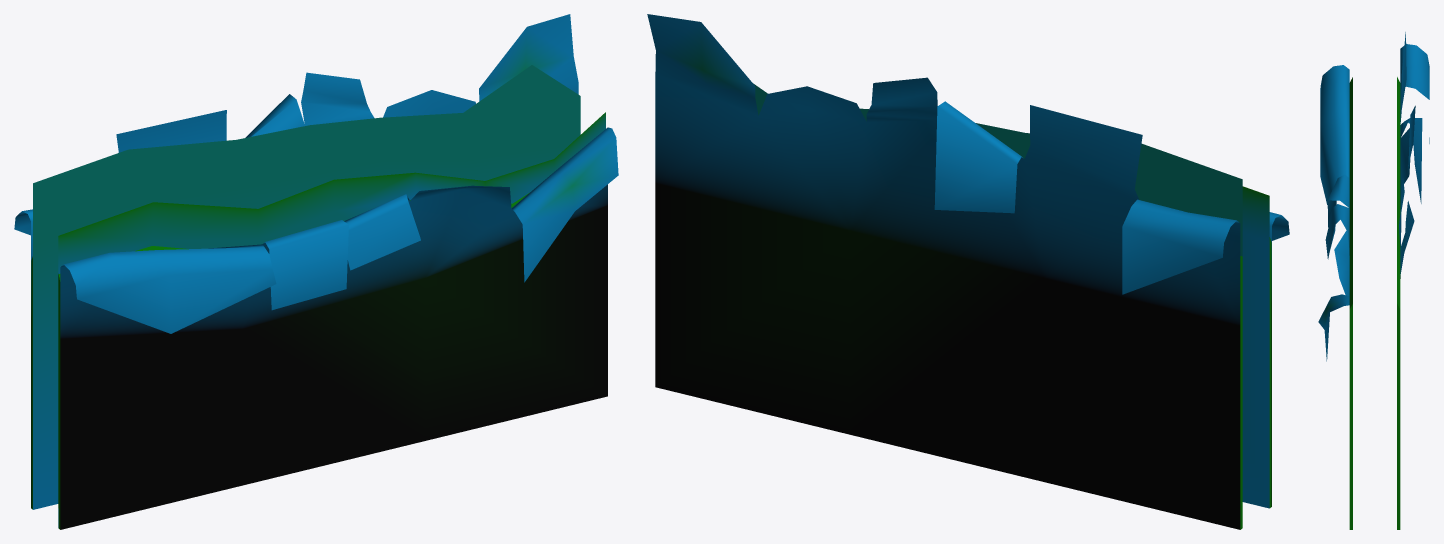
The model's file is DBK_Drywall_Tile_C.fbx.
The picture shows the model from 3 angles, left to right: view 1: azimuth 30°, elevation 25°; view 2: azimuth 150°, elevation 25°; view 3: azimuth 270°, elevation 25°; orthographic projection. The views are drawn at different scales.
Parts seen in each view (by area): view 1: DBK_Drywall_Tile_C; view 2: DBK_Drywall_Tile_C; view 3: DBK_Drywall_Tile_C.
Part boxes in pixels (x1,y1,x2,y2): DBK_Drywall_Tile_C: (14,14,618,529); DBK_Drywall_Tile_C: (647,14,1289,529); DBK_Drywall_Tile_C: (1318,32,1429,529).
Size of what is drawn, in the model's own units: 300 by 189 by 60.87.
